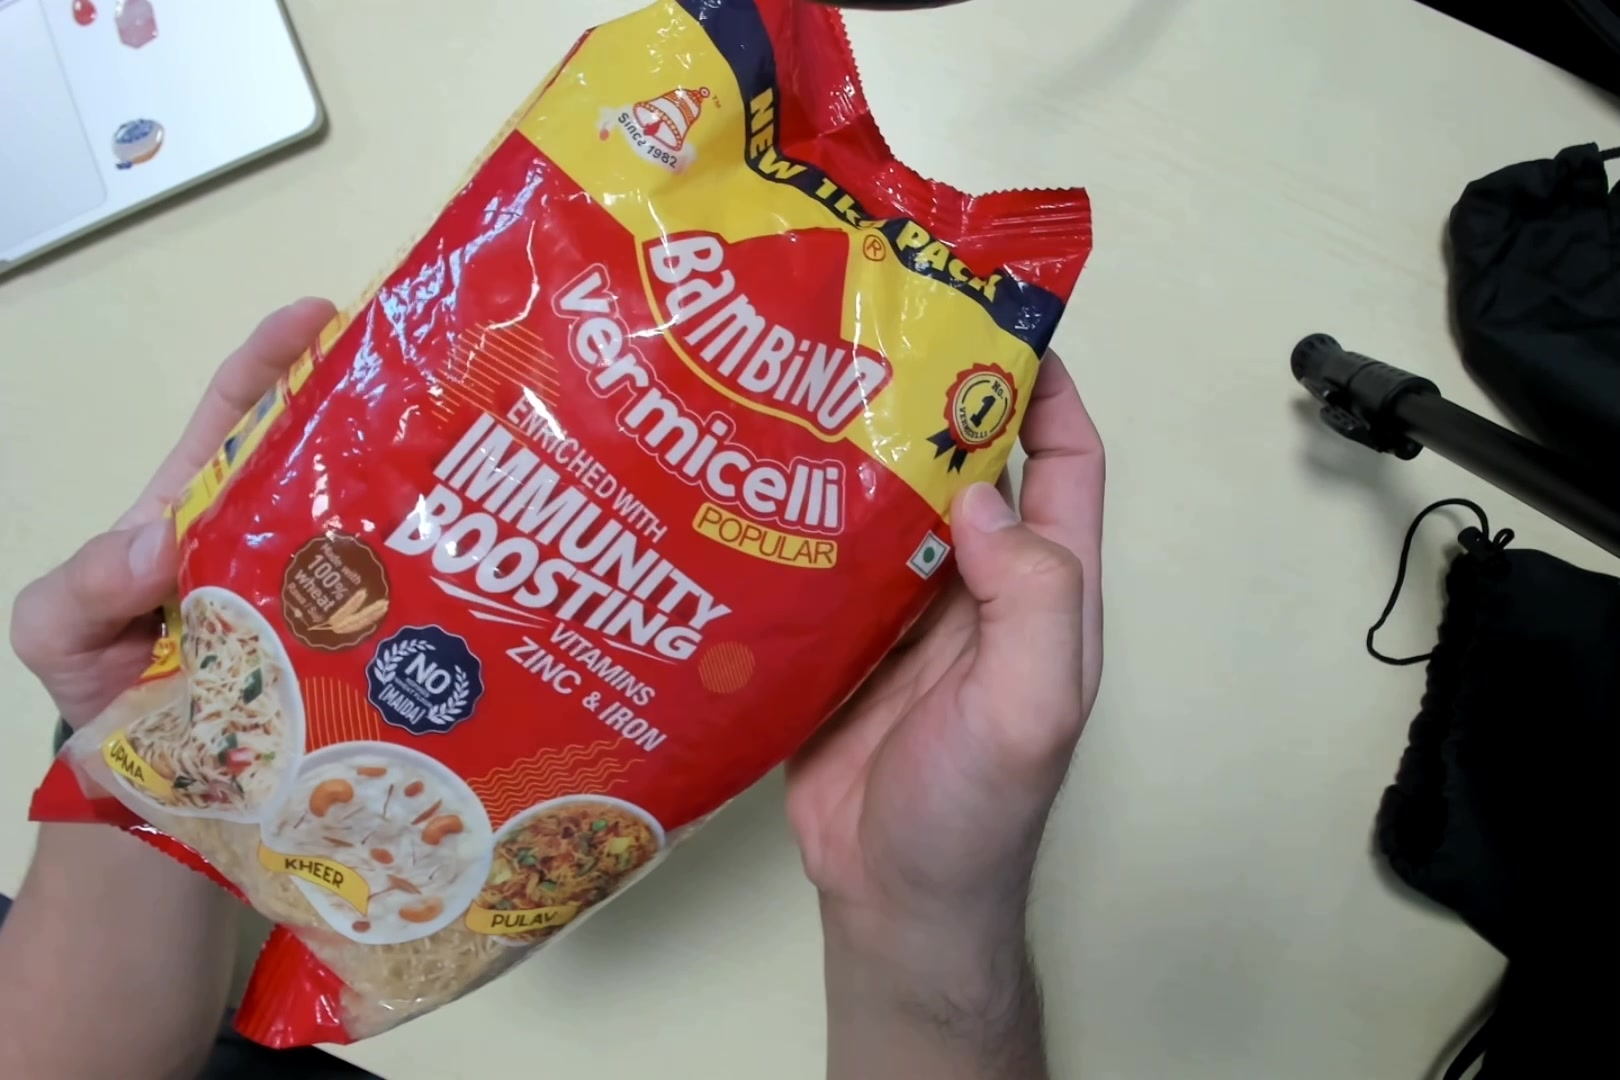OtherNoodles_300-399g_Halal_NonHealthy: (69, 8, 1100, 1051)
